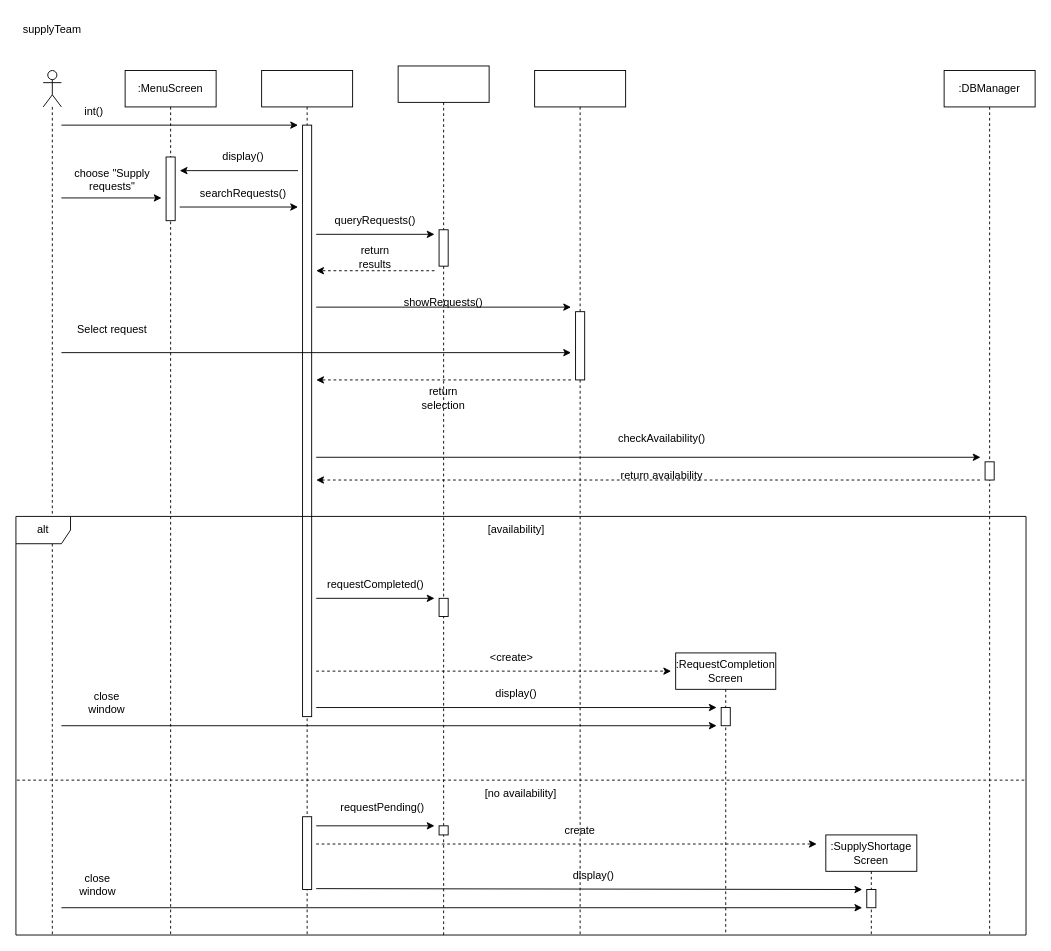
Image size: 1051x951. Some labels were removed from this diagram. Here are the shapes that lost their labels. From the top down, the box of each, then its label:
(261, 70, 353, 935): :ManageRequests Class
(397, 65, 489, 935): :SupplyRequests
(534, 70, 626, 935): :SupplyRequests Screen
